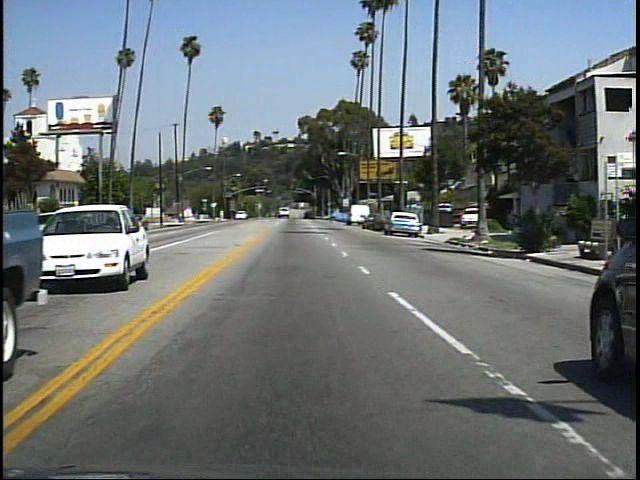person: (521, 198, 545, 252)
